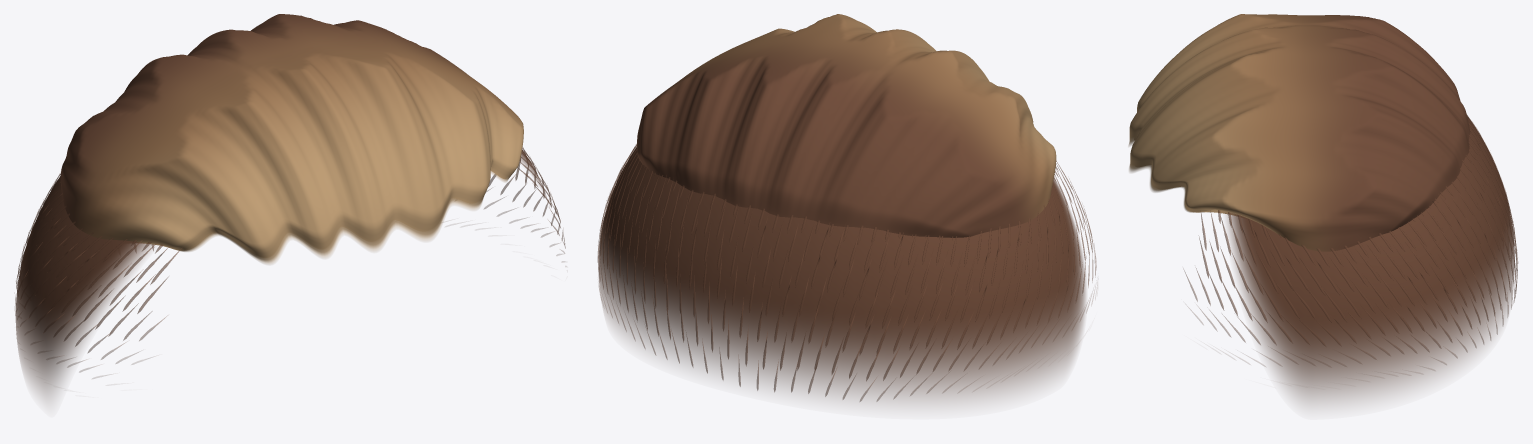
Rendered from Masculine-sidepart-pashmina259-hair-ombre.glb.
3 views of the same model, side by side, from view 1: azimuth 30°, elevation 25°; view 2: azimuth 150°, elevation 25°; view 3: azimuth 270°, elevation 25° (orthographic). The views are drawn at different scales.
Parts seen in each view (by area): view 1: 226 hair / Hair259 / textured forward Crop, 226 hair / Hair258 / smooth side fade, 226 hair / Hair259 / directional fade marks214; view 2: 226 hair / Hair258 / smooth side fade, 226 hair / Hair259 / textured forward Crop, 226 hair / Hair259 / directional fade marks214; view 3: 226 hair / Hair259 / textured forward Crop, 226 hair / Hair258 / smooth side fade, 226 hair / Hair259 / directional fade marks214.
Part boxes in pixels (<box>): 226 hair / Hair259 / textured forward Crop: <box>60,14,523,264</box>; 226 hair / Hair258 / smooth side fade: <box>15,150,546,399</box>; 226 hair / Hair259 / directional fade marks214: <box>15,147,566,378</box>; 226 hair / Hair258 / smooth side fade: <box>598,147,1085,403</box>; 226 hair / Hair259 / textured forward Crop: <box>637,14,1056,237</box>; 226 hair / Hair259 / directional fade marks214: <box>597,144,1097,401</box>; 226 hair / Hair259 / textured forward Crop: <box>1128,14,1470,251</box>; 226 hair / Hair258 / smooth side fade: <box>1226,117,1514,404</box>; 226 hair / Hair259 / directional fade marks214: <box>1184,115,1518,373</box>.
Size of the model in its own units: 0.9743 by 0.6215 by 0.7545.
